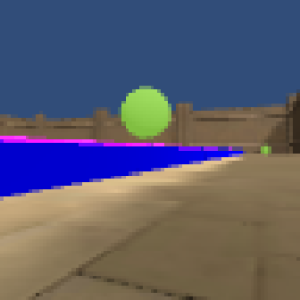goodGoal: (117, 85, 174, 139), (258, 143, 274, 158)
platform: (1, 147, 236, 189)
ramp: (1, 134, 164, 147)
